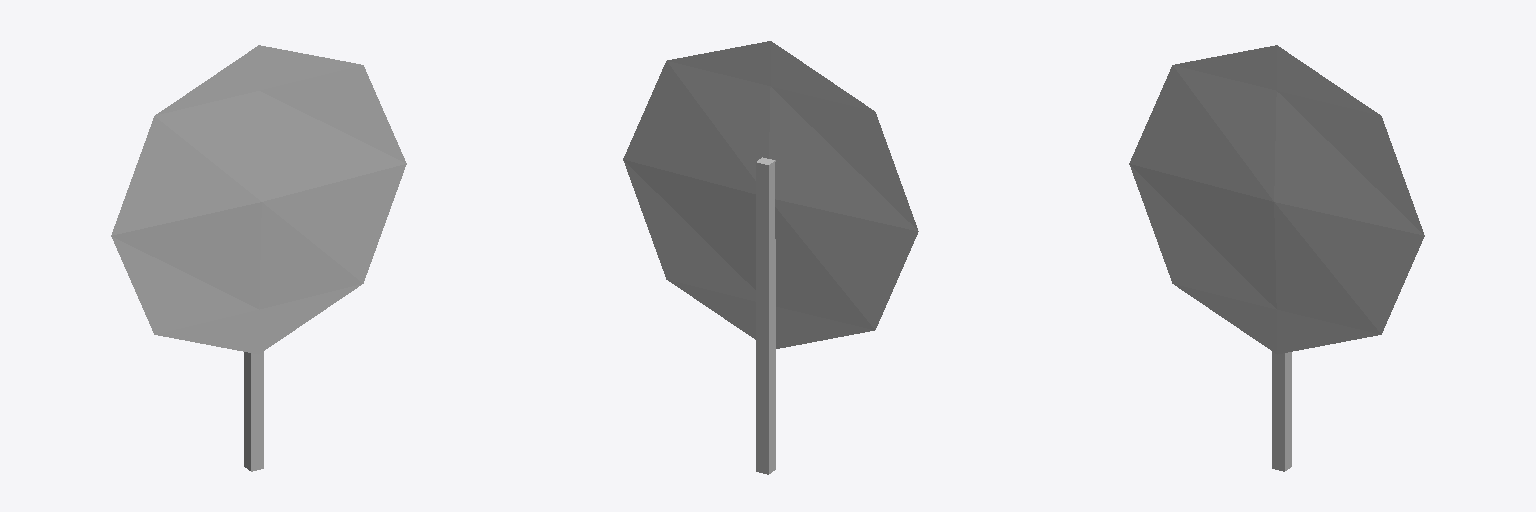
Rendered from target.obj.
3 renders of one model, left to right at view 1: azimuth 30°, elevation 25°; view 2: azimuth 150°, elevation 25°; view 3: azimuth 330°, elevation 25°, orthographic.
Parts seen in each view (by area): view 1: Sphere, Cube; view 2: Sphere, Cube; view 3: Sphere, Cube.
Part boxes in pixels (left/top/right/bottom): Sphere: left=111, top=45, right=406, bottom=354; Cube: left=244, top=352, right=263, bottom=471; Sphere: left=623, top=41, right=918, bottom=348; Cube: left=756, top=157, right=775, bottom=474; Sphere: left=1129, top=45, right=1424, bottom=354; Cube: left=1272, top=352, right=1291, bottom=471.
Bounding box in the file's own units: 2 × 2.75 × 0.1375.